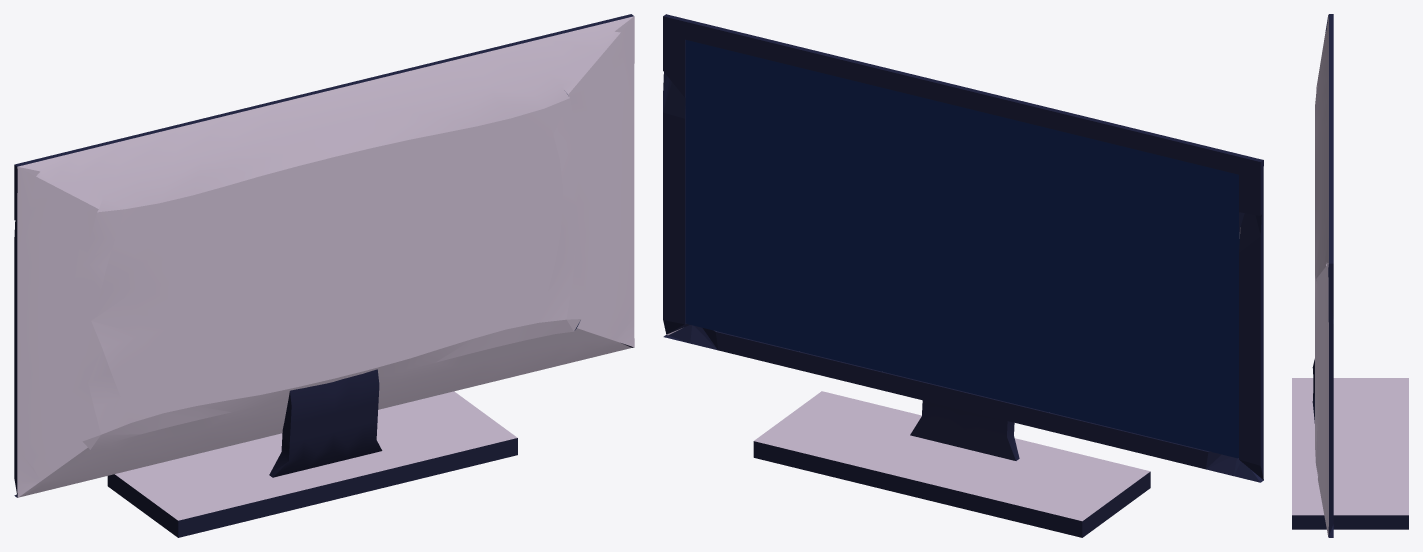
The model's file is pc_monitor.glb.
3 renders of one model, left to right at view 1: azimuth 30°, elevation 25°; view 2: azimuth 150°, elevation 25°; view 3: azimuth 270°, elevation 25°, orthographic. The views are drawn at different scales.
Parts seen in each view (by area): view 1: Casing, Stand; view 2: Screen, Casing, Stand; view 3: Stand, Casing.
Boxes of the visible parts, x1,y1,x2,y2 form: Casing: [14, 14, 634, 497]; Stand: [107, 369, 517, 537]; Screen: [685, 40, 1239, 458]; Casing: [663, 14, 1263, 482]; Stand: [753, 391, 1150, 537]; Stand: [1292, 359, 1408, 529]; Casing: [1315, 14, 1333, 537].
Bounding box in the file's own units: 0.9797 × 0.5899 × 0.1939.
